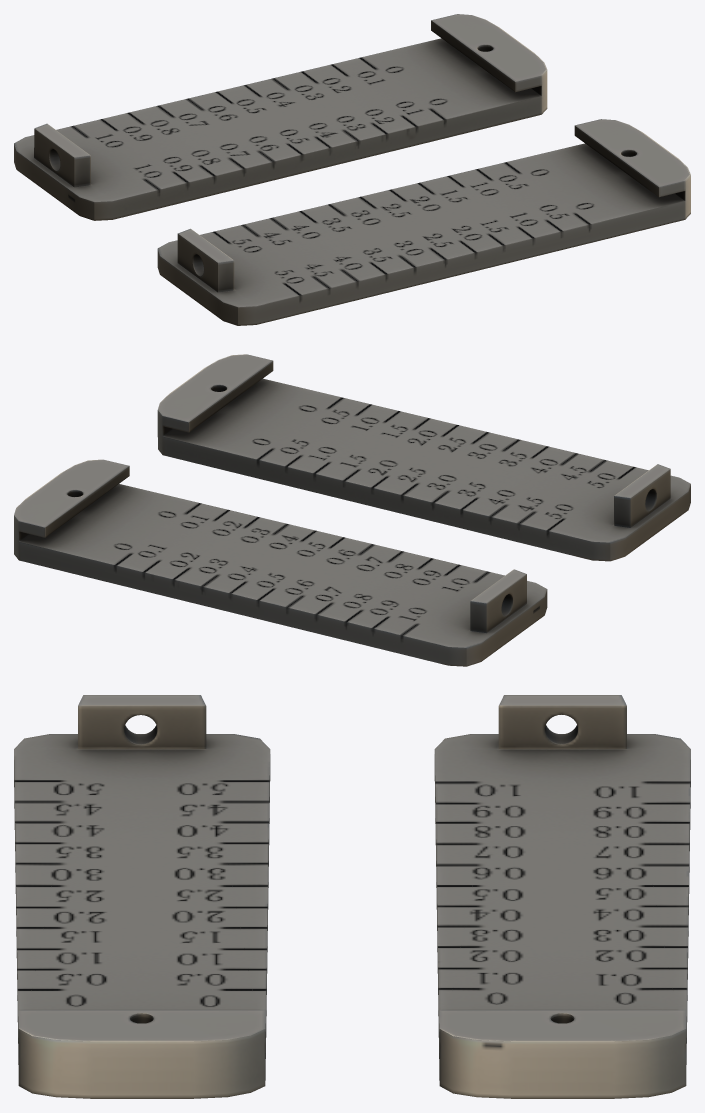
The model's file is dinamometr.fbx.
3 views of the same model, one above another, from view 1: azimuth 30°, elevation 25°; view 2: azimuth 150°, elevation 25°; view 3: azimuth 270°, elevation 25° (orthographic). The views are drawn at different scales.
Parts seen in each view (by area): view 1: 1.0_dinamometr, 5.0_dinamometr; view 2: 5.0_dinamometr, 1.0_dinamometr; view 3: 5.0_dinamometr, 1.0_dinamometr.
Part boxes in pixels (x1,y1,x2,y2): 1.0_dinamometr: (14, 14, 547, 220); 5.0_dinamometr: (157, 119, 690, 325); 5.0_dinamometr: (157, 354, 690, 561); 1.0_dinamometr: (14, 459, 547, 666); 5.0_dinamometr: (14, 695, 270, 1098); 1.0_dinamometr: (434, 695, 690, 1098).
Size of the model in its own units: 131 by 13.24 by 112.
